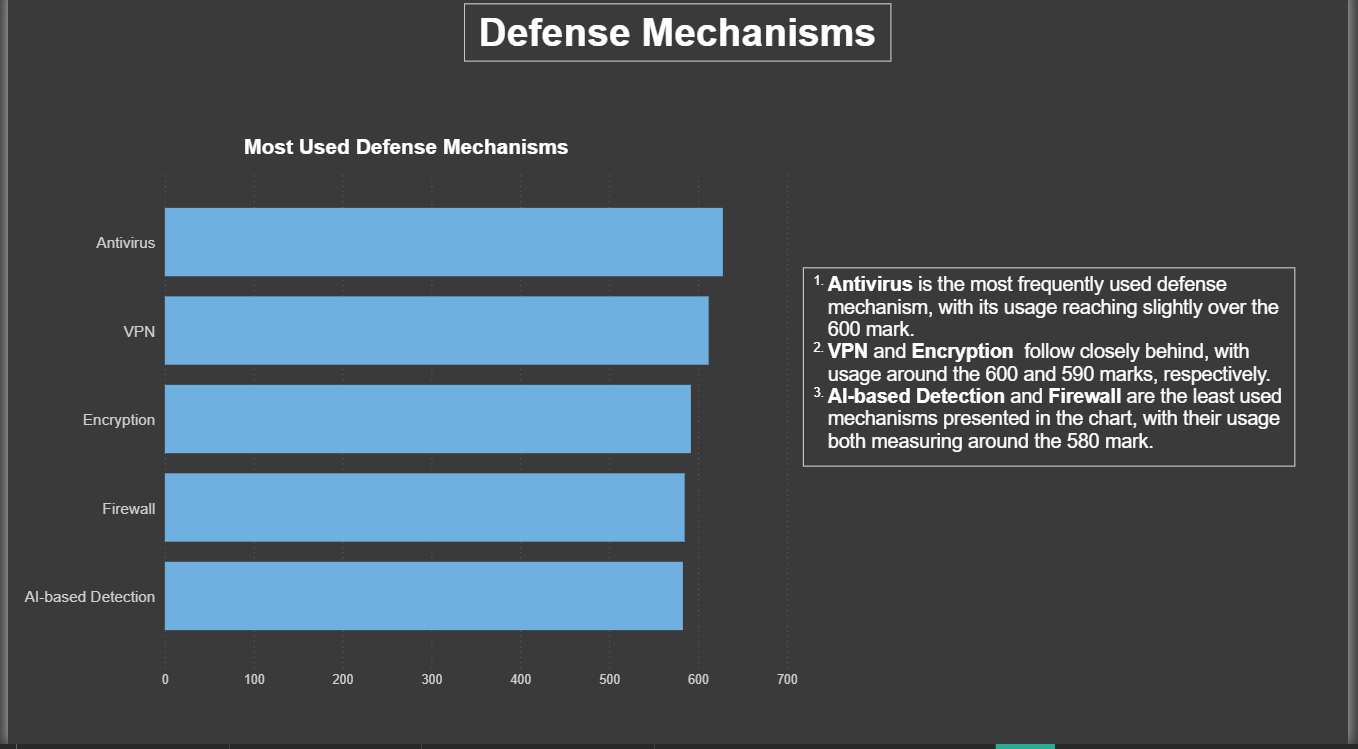

What the dashboard file says about the page in this screenshot:
{"tool":"powerbi","page":{"name":"Defense Mechanisms & Mitigation","canvas":[1280,720],"ordinal":3},"visuals":[{"type":"textbox","box":[435.9,13,408.3,55.3],"z":0},{"type":"barChart","title":"Most Used Defense Mechanisms","fields":{"Category":["Global_Cybersecurity_Threats_2015-2024.Defense Mechanism Used"],"Y":["CountNonNull(Global_Cybersecurity_Threats_2015-2024.Defense Mechanism Used)"]},"box":[1.6,138.3,758,535.1],"z":1},{"type":"textbox","box":[759.6,265.1,470.1,190.3],"z":2}]}

Visuals, with their boxes in screenshot pixels (x1, y1, x2, y2), scaled from the page's 1280x720 canvas onto the 1358x749 screenshot:
textbox: bbox=(462, 14, 896, 71)
"Most Used Defense Mechanisms" barChart: bbox=(2, 144, 806, 701)
textbox: bbox=(806, 276, 1305, 474)
